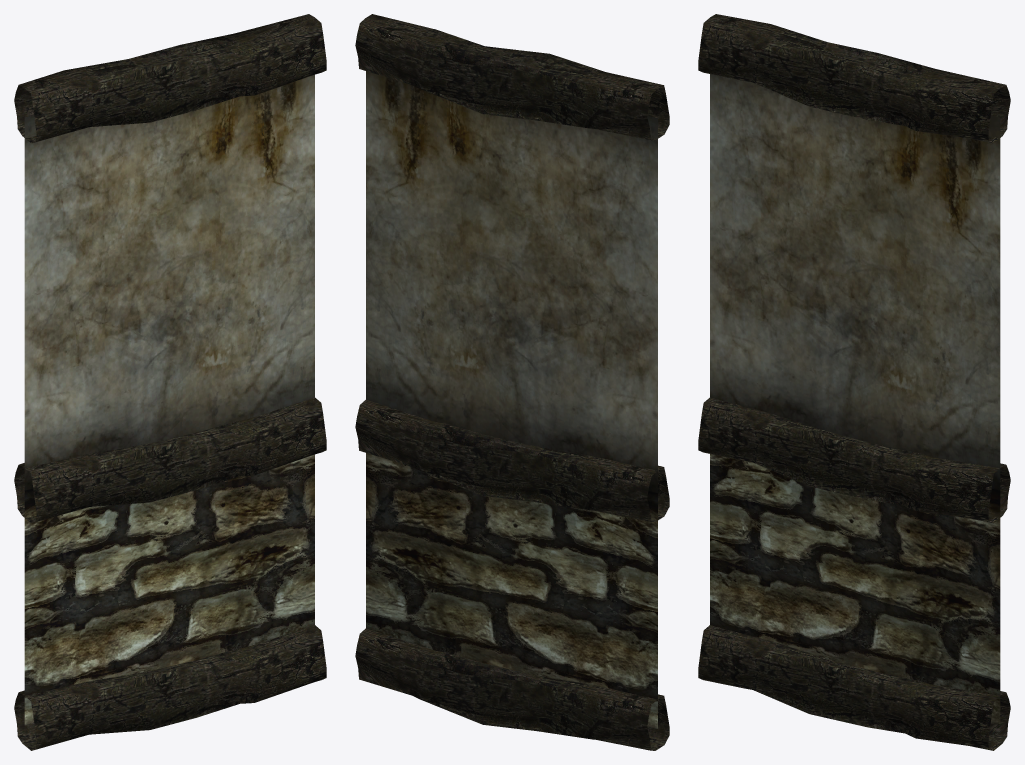
Rendered from short.dae.
The picture shows the model from 3 angles, left to right: view 1: azimuth 30°, elevation 25°; view 2: azimuth 150°, elevation 25°; view 3: azimuth 330°, elevation 25°; orthographic projection.
Parts seen in each view (by area): view 1: pPlane3, polySurface1; view 2: pPlane3, polySurface1; view 3: pPlane3, polySurface1.
Part boxes in pixels (left/top/right/bottom): pPlane3: left=24, top=74, right=314, bottom=725; polySurface1: left=14, top=14, right=326, bottom=750; pPlane3: left=366, top=71, right=657, bottom=728; polySurface1: left=355, top=14, right=669, bottom=750; pPlane3: left=710, top=74, right=1000, bottom=725; polySurface1: left=698, top=14, right=1010, bottom=750.
Size of the model in its own units: 2 by 4.39 by 0.3257.
